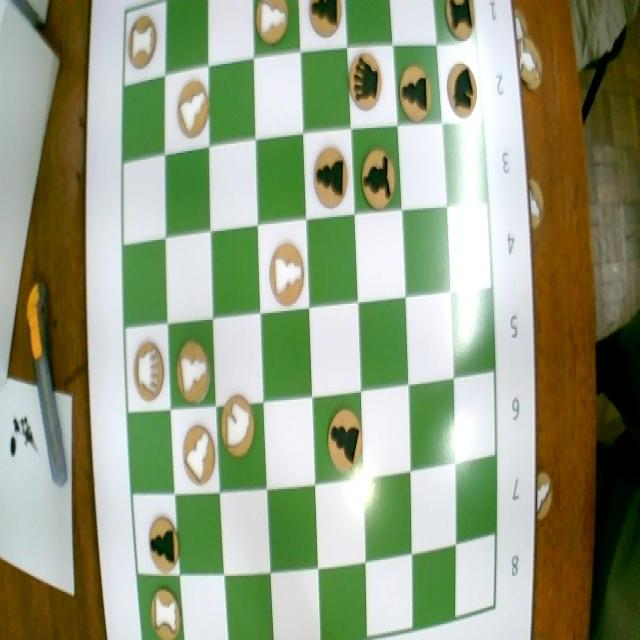chess-pieces: (325, 404, 365, 482), (220, 386, 258, 466), (267, 235, 307, 310), (357, 141, 398, 212), (347, 47, 385, 116), (174, 78, 213, 142), (176, 342, 214, 407), (312, 144, 349, 209), (181, 421, 217, 486), (129, 341, 166, 404), (146, 514, 184, 574), (398, 61, 433, 124), (445, 59, 479, 122), (148, 585, 184, 640), (127, 17, 160, 69), (254, 0, 289, 49), (444, 0, 479, 48), (306, 0, 346, 41)
